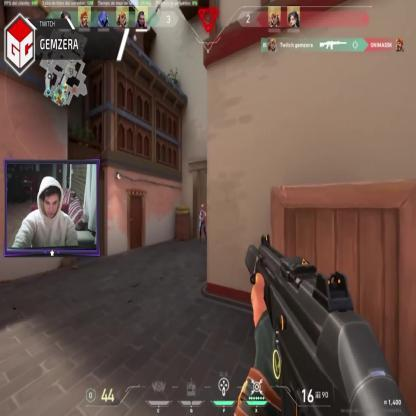enemy: (197, 201, 208, 239)
enemy_head: (201, 204, 204, 212)
